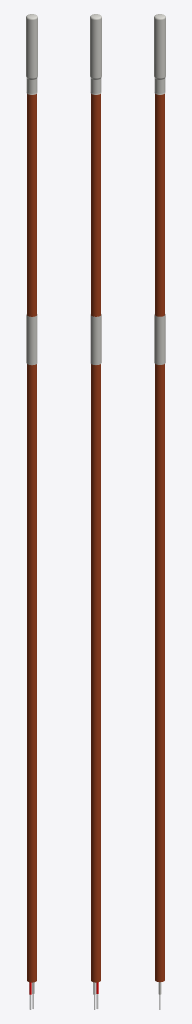
The model's file is MBT 153_Temperature Sensor.glb.
The picture shows the model from 3 angles, left to right: view 1: azimuth 30°, elevation 25°; view 2: azimuth 210°, elevation 25°; view 3: azimuth 270°, elevation 25°; orthographic projection.
Parts seen in each view (by area): view 1: Solid1.002, Solid1, Solid1.001; view 2: Solid1.002, Solid1, Solid1.001; view 3: Solid1.002, Solid1, Solid1.001.
Boxes of the visible parts, box(x1,y1,x2,y2) form: Solid1.002: box(27, 94, 36, 1009); Solid1: box(26, 14, 37, 94); Solid1.001: box(26, 314, 37, 365); Solid1.002: box(91, 94, 100, 1009); Solid1: box(90, 14, 101, 94); Solid1.001: box(90, 314, 101, 364); Solid1.002: box(155, 94, 164, 1009); Solid1: box(154, 14, 165, 94); Solid1.001: box(154, 314, 165, 364).
Size of the model in its own units: 0.00564 by 0.515 by 0.00564.
